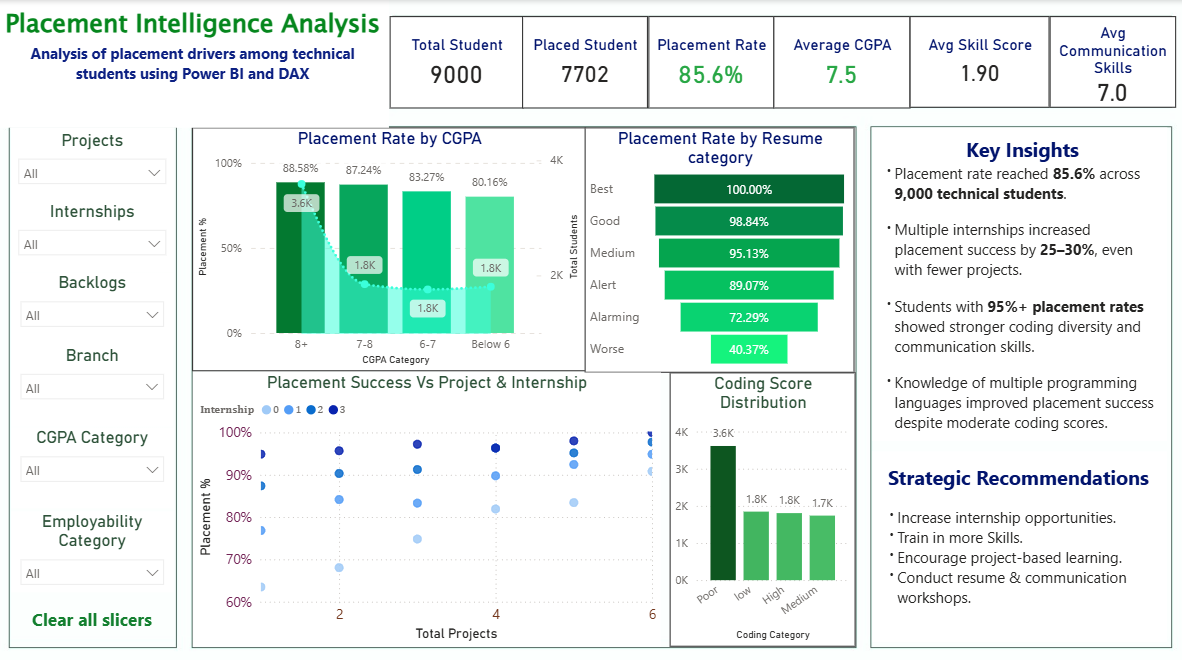

Layout of this report page (visuals, bound fields, positions):
{"tool":"powerbi","page":{"name":"Executive Summary","canvas":[1280,720],"ordinal":0},"visuals":[{"type":"lineClusteredColumnComboChart","title":"Placement Rate by CGPA","fields":{"Category":["Placement Analysis.CGPA_category"],"Y2":["CountNonNull(Placement Analysis.student_id)"],"Y":["Key_measures.Placement Rate"]},"box":[211.4,137.3,424.1,262.5],"z":0},{"type":"slicer","title":"Backlogs","fields":{"Values":["Placement Analysis.backlogs"]},"box":[16.2,293.5,175,78.1],"z":1000},{"type":"card","title":"Total Student","fields":{"Values":["CountNonNull(Placement Analysis.student_id)"]},"box":[423.4,18.2,143.9,99.2],"z":2000},{"type":"slicer","title":"Internships","fields":{"Values":["Placement Analysis.Number of internship"]},"box":[16.2,214.1,175,79.4],"z":3000},{"type":"funnel","title":"Placement Rate by Resume category","fields":{"Y":["Key_measures.Placement Rate"],"Category":["Placement Analysis.Resume_Score_category"]},"box":[634.4,136.9,290.7,264.1],"z":4000},{"type":"card","title":"Placed Student","fields":{"Values":["Key_measures (3).Total_Placed_student"]},"box":[567,18.1,135.1,98.9],"z":5000},{"type":"slicer","title":"Projects","fields":{"Values":["Placement Analysis.projects"]},"box":[16.2,137.3,175,76.7],"z":6000},{"type":"clusteredColumnChart","title":"Coding Score Distribution","fields":{"Category":["Placement Analysis.Coding_score_category"],"Y":["CountNonNull(Placement Analysis.student_id)"]},"box":[725.2,401,199.8,294.8],"z":7000},{"type":"card","title":"Placement Rate","fields":{"Values":["Key_measures (3).Placement Rate"]},"box":[702.1,18.1,135.1,98.9],"z":8000},{"type":"slicer","title":"Branch","fields":{"Values":["Placement Analysis.branch"]},"box":[16.8,371.7,174.7,88],"z":9000},{"type":"scatterChart","title":"Placement Success Vs Project & Internship","fields":{"X":["Placement Analysis.Number of Projects"],"Series":["Placement Analysis.Number of internship"],"Y":["Key_measures.Placement Rate"]},"box":[212.4,401,503.1,294.8],"z":10000},{"type":"slicer","title":"CGPA Category","fields":{"Values":["Placement Analysis.CGPA_category"]},"box":[16.2,460.4,175,87.5],"z":11000},{"type":"slicer","title":"Employability Category","fields":{"Values":["Placement Analysis.Employability_category"]},"box":[16.2,550.6,175,87.5],"z":12000},{"type":"card","title":"Average CGPA","fields":{"Values":["Key_measures (3).Average CGPA"]},"box":[837.3,18.1,147.2,98.9],"z":13000},{"type":"card","title":"Avg Communication Skills","fields":{"Values":["Key_measures.Avg_communications Skills"]},"box":[1134.9,17.5,136,98.3],"z":14000},{"type":"textbox","box":[943.7,137.3,317.7,337.9],"z":15000},{"type":"textbox","box":[943.7,486,317.7,206],"z":16000},{"type":"textbox","box":[0,0,423.5,137.5],"z":17000},{"type":"card","title":"Avg Skill Score","fields":{"Values":["Key_measures.Avg_skill_score"]},"box":[984.1,17.5,150.8,98.3],"z":18000},{"type":"actionButton","box":[16.6,638.3,174.5,56.5],"z":19000}]}

Visuals, with their boxes in screenshot pixels (x1, y1, x2, y2), scaled from the page's 1280x720 canvas onto the 1182x660 screenshot:
"Placement Rate by CGPA" lineClusteredColumnComboChart: rect(195, 126, 587, 366)
"Backlogs" slicer: rect(15, 269, 177, 341)
"Total Student" card: rect(391, 17, 524, 108)
"Internships" slicer: rect(15, 196, 177, 269)
"Placement Rate by Resume category" funnel: rect(586, 125, 854, 368)
"Placed Student" card: rect(524, 17, 648, 107)
"Projects" slicer: rect(15, 126, 177, 196)
"Coding Score Distribution" clusteredColumnChart: rect(670, 368, 854, 638)
"Placement Rate" card: rect(648, 17, 773, 107)
"Branch" slicer: rect(16, 341, 177, 421)
"Placement Success Vs Project & Internship" scatterChart: rect(196, 368, 661, 638)
"CGPA Category" slicer: rect(15, 422, 177, 502)
"Employability Category" slicer: rect(15, 505, 177, 585)
"Average CGPA" card: rect(773, 17, 909, 107)
"Avg Communication Skills" card: rect(1048, 16, 1174, 106)
textbox: rect(871, 126, 1165, 436)
textbox: rect(871, 446, 1165, 634)
textbox: rect(0, 0, 391, 126)
"Avg Skill Score" card: rect(909, 16, 1048, 106)
actionButton: rect(15, 585, 176, 637)
